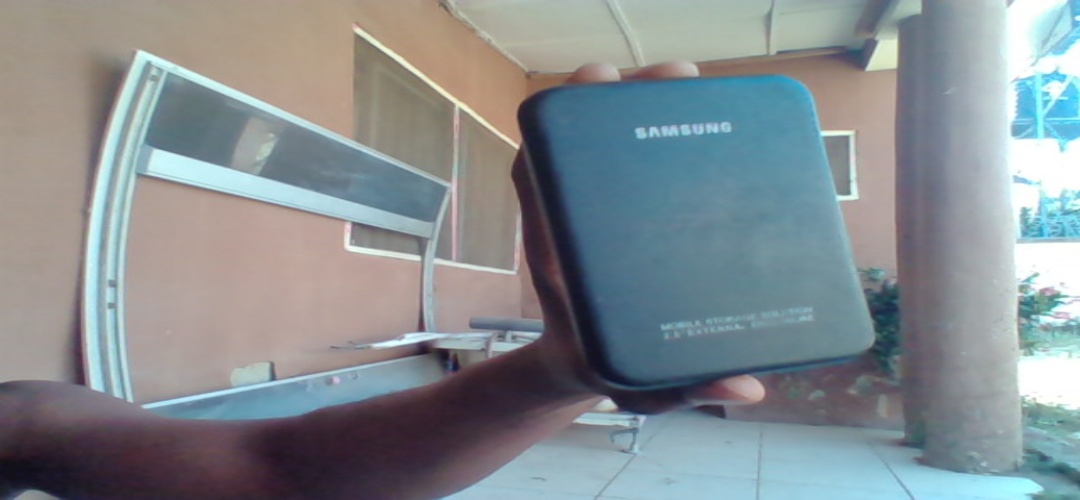hard_disk_case: (519, 91, 880, 379)
